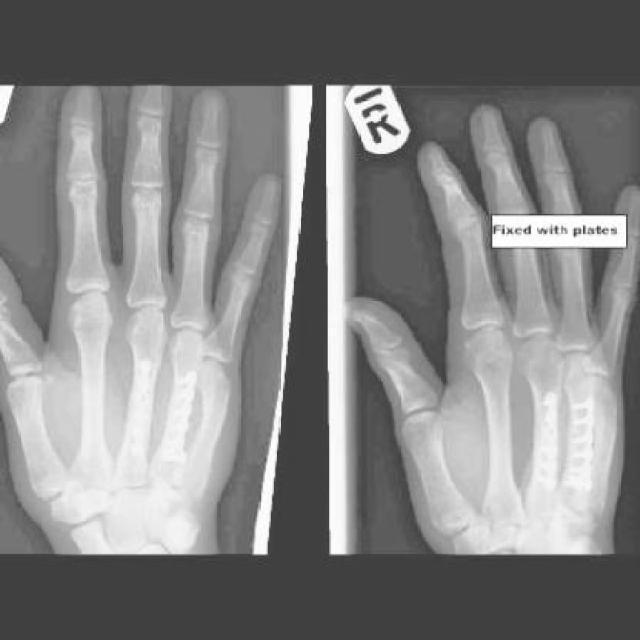Fracture: (202, 366, 244, 411), (596, 383, 625, 434)
